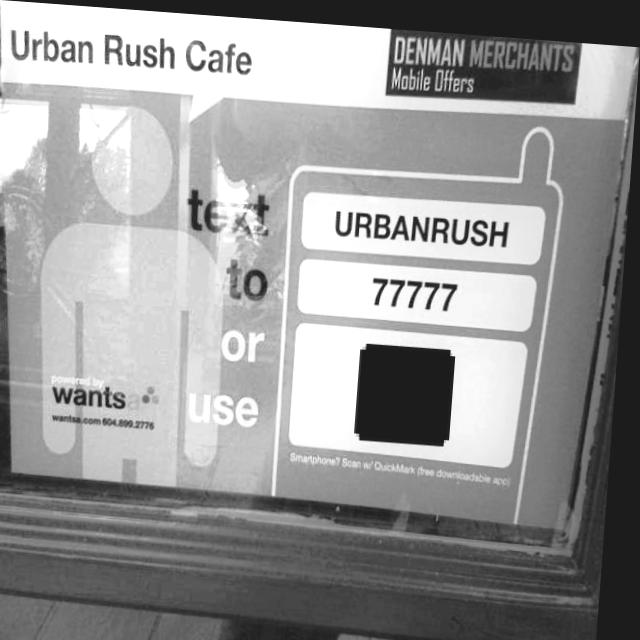qr_code: (363, 341, 458, 436)
